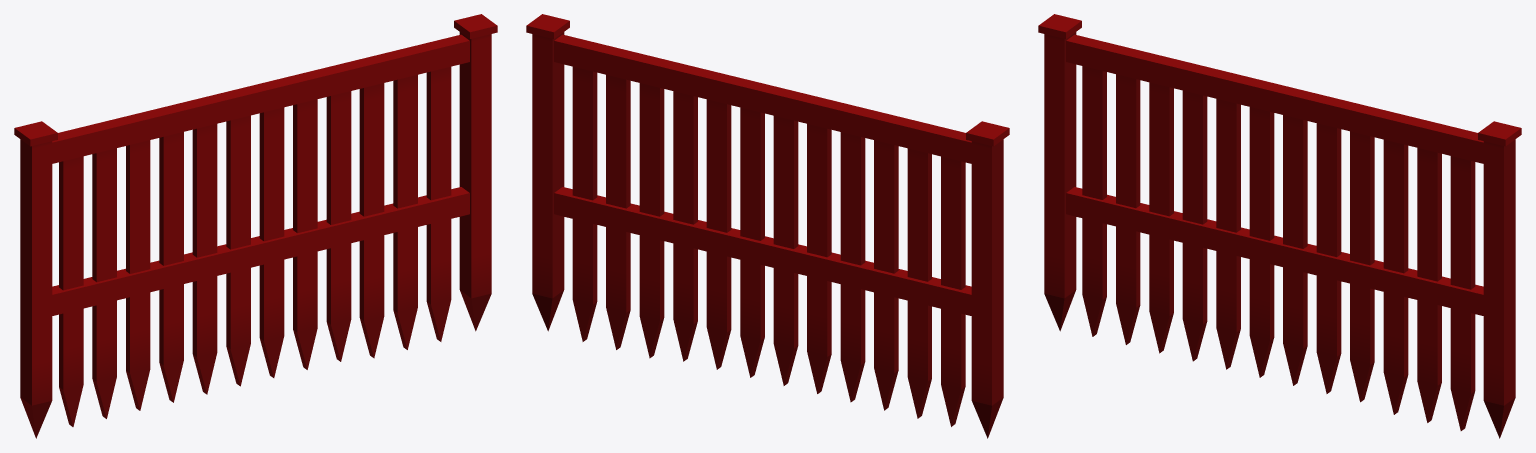
The model's file is WoodFence.glb.
The picture shows the model from 3 angles, left to right: view 1: azimuth 30°, elevation 25°; view 2: azimuth 150°, elevation 25°; view 3: azimuth 330°, elevation 25°; orthographic projection.
Visible parts, largest first — view 1: WoodFence; view 2: WoodFence; view 3: WoodFence.
Boxes of the visible parts, bbox=[...] form: WoodFence: bbox=[14, 14, 497, 438]; WoodFence: bbox=[526, 14, 1009, 438]; WoodFence: bbox=[1038, 14, 1521, 438].
Bounding box in the file's own units: 17.45 × 11.02 × 1.03.
